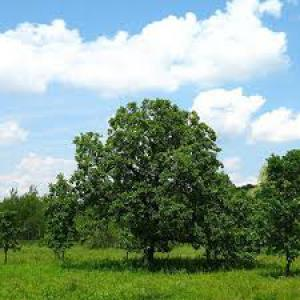Tree: (72, 95, 220, 260)
